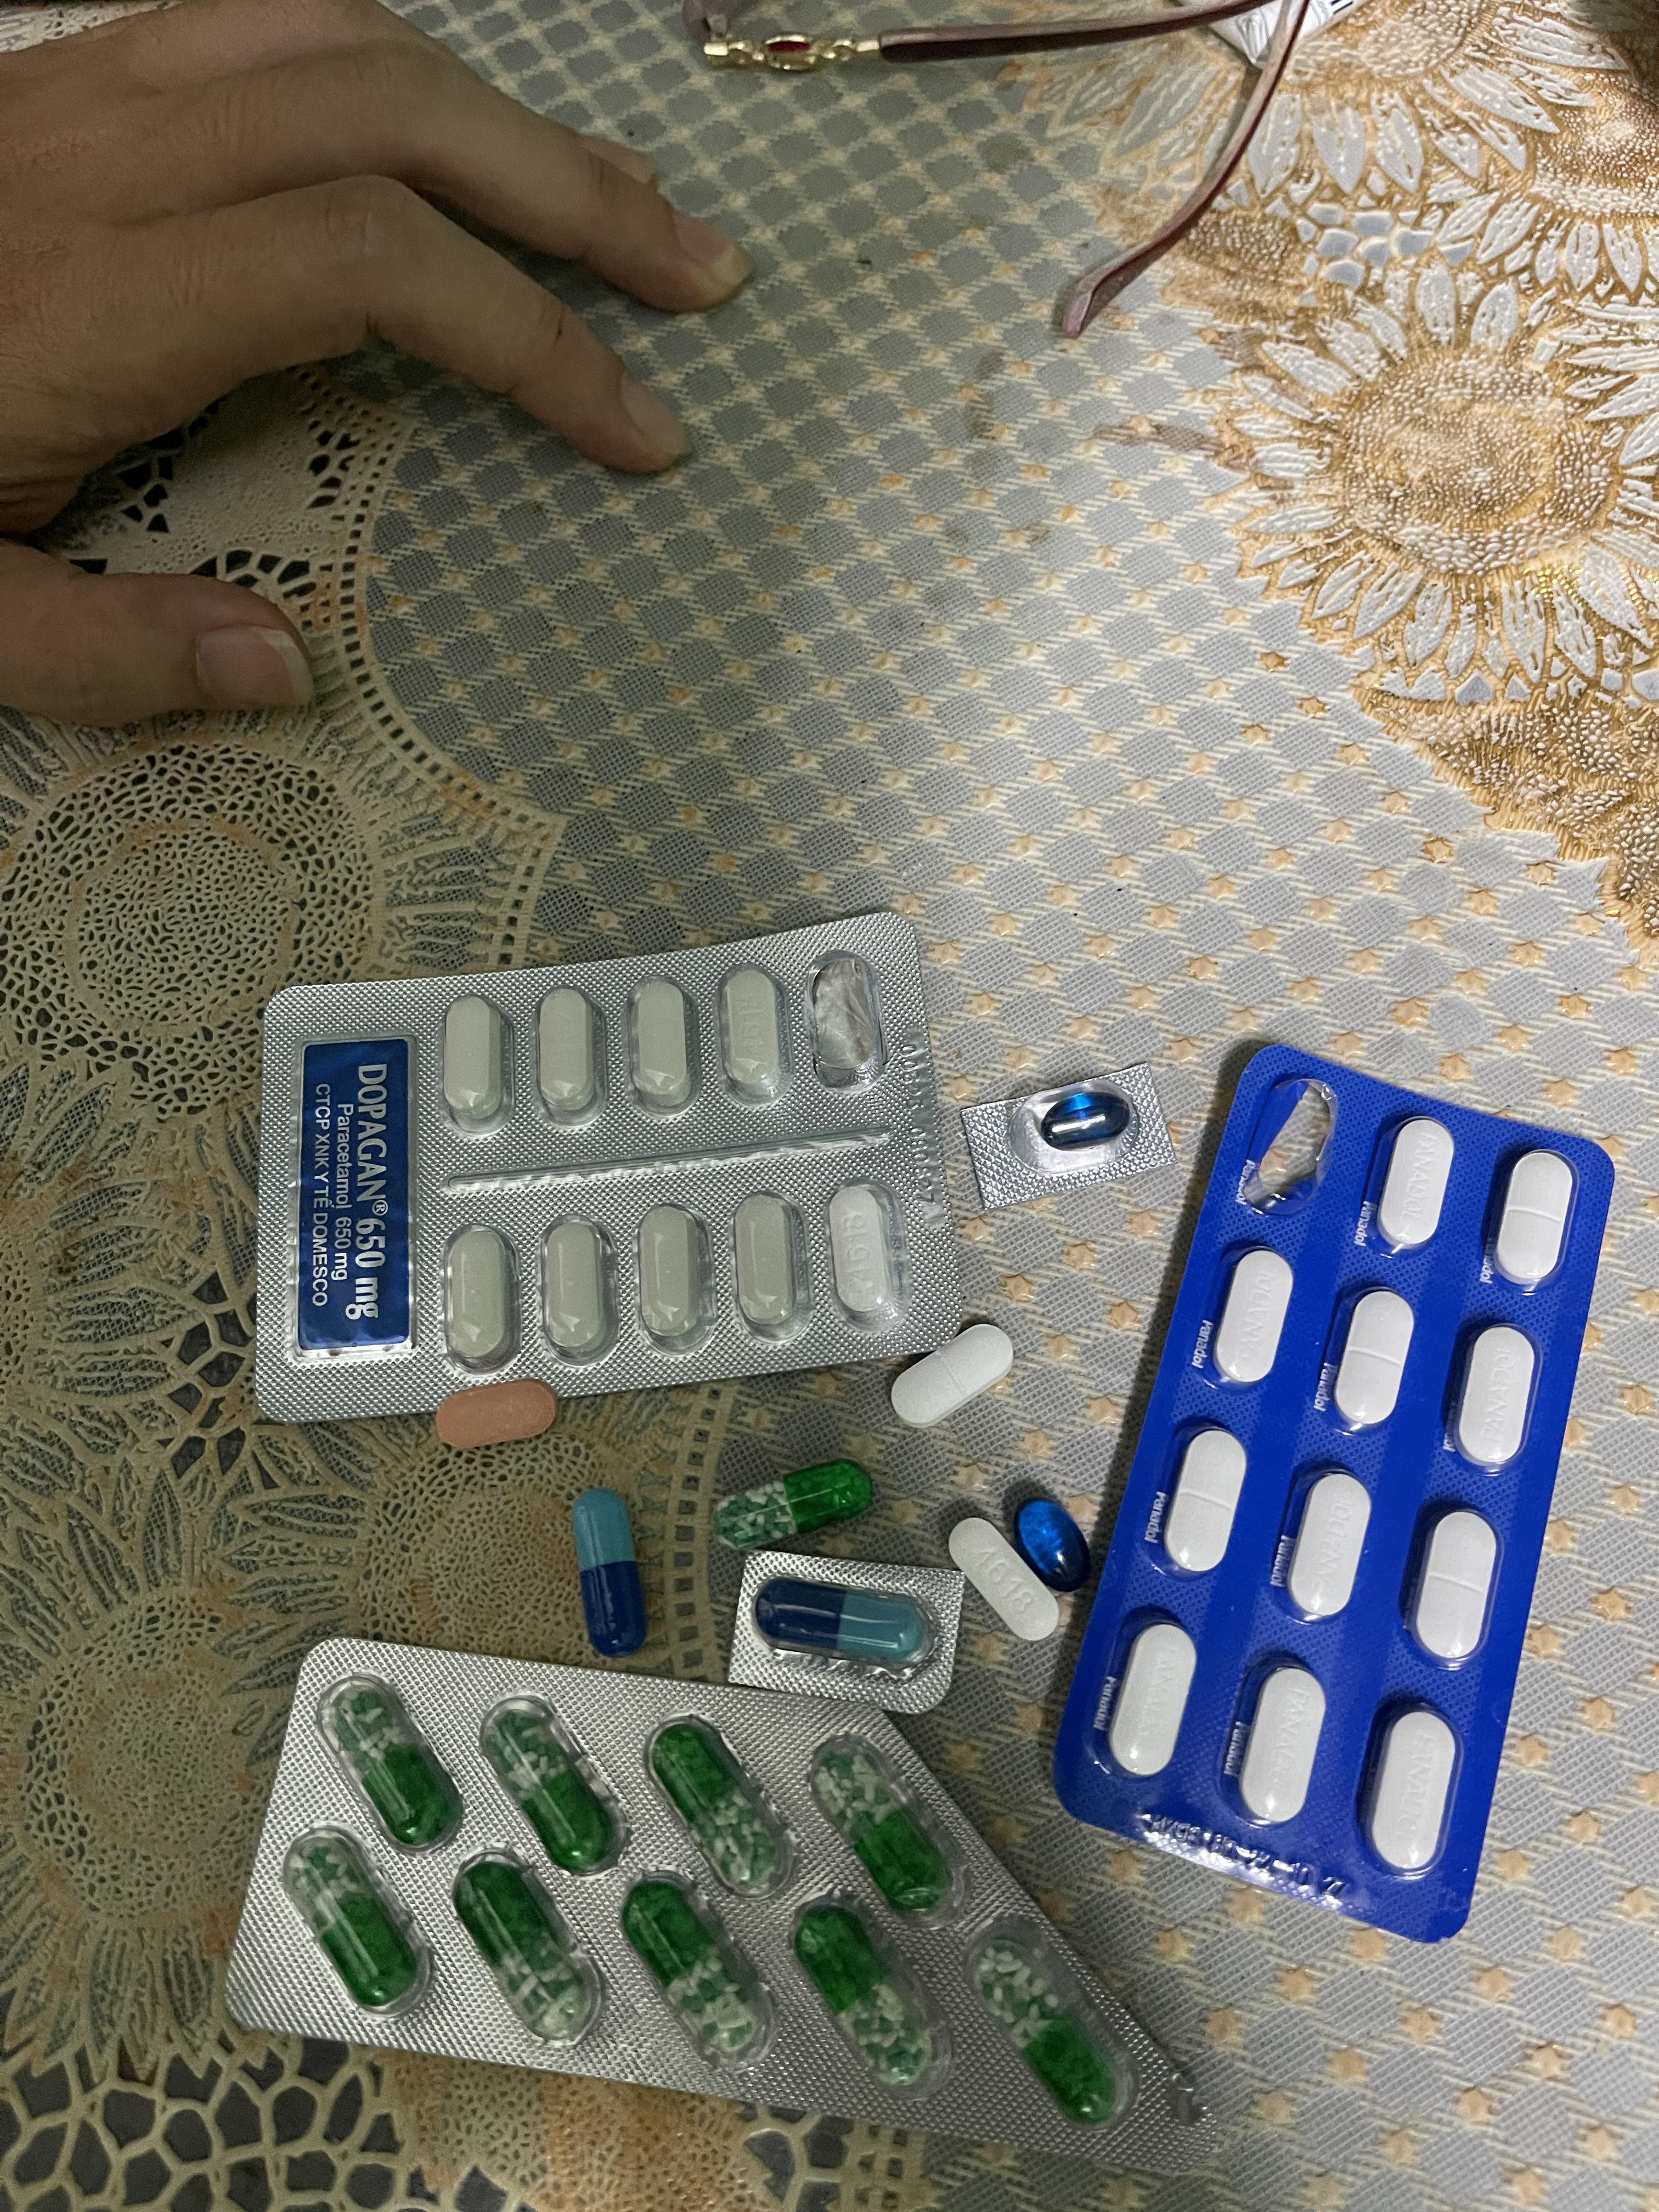Lincomyxin_500mg: (1014, 1496, 1094, 1590), (1037, 1087, 1127, 1148)
Loratadine_10mg: (434, 1379, 561, 1451)
Paracetamol_350mg: (1363, 1705, 1459, 1872), (1234, 1660, 1328, 1824), (1410, 1507, 1500, 1663), (1283, 1472, 1377, 1622), (1448, 1324, 1541, 1472), (1110, 1622, 1195, 1778), (889, 1320, 1012, 1426), (1162, 1428, 1244, 1576), (1333, 1291, 1417, 1430), (1492, 1150, 1574, 1287), (1209, 1251, 1291, 1386), (1375, 1120, 1455, 1252)
Paracetamol_500mg: (948, 1517, 1058, 1642), (828, 1181, 913, 1329), (633, 1204, 711, 1353), (538, 1216, 617, 1364), (732, 1193, 809, 1343), (443, 1226, 519, 1372), (718, 968, 791, 1104), (627, 979, 697, 1118), (437, 998, 509, 1134), (533, 986, 599, 1125)
Paracetamol_650mg: (789, 1890, 946, 2101), (971, 1912, 1126, 2125), (619, 1869, 777, 2069), (282, 1827, 432, 2019), (451, 1853, 601, 2045), (809, 1731, 960, 1918), (648, 1717, 796, 1897), (317, 1677, 465, 1855), (483, 1696, 627, 1871), (713, 1460, 873, 1550)
pill: (753, 1578, 936, 1676), (572, 1489, 648, 1658)
